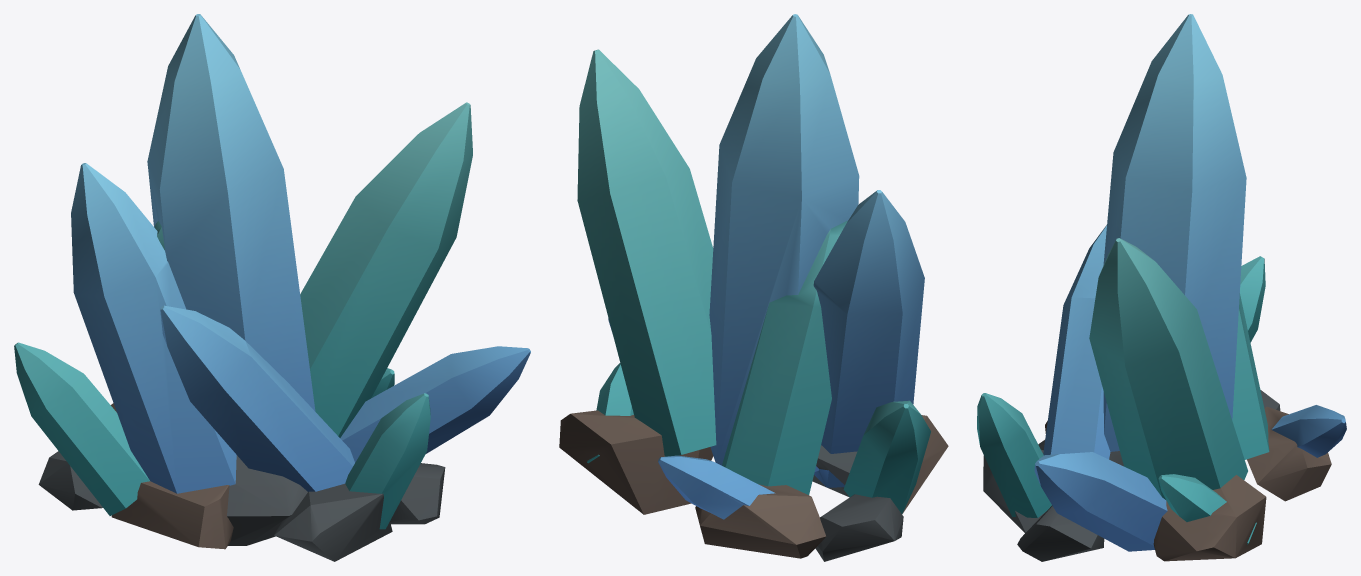
File: crystal_cluster_huge.glb
3 renders of one model, left to right at view 1: azimuth 30°, elevation 25°; view 2: azimuth 150°, elevation 25°; view 3: azimuth 270°, elevation 25°, orthographic. The views are drawn at different scales.
Parts seen in each view (by area): view 1: crystal_cluster_huge; view 2: crystal_cluster_huge; view 3: crystal_cluster_huge.
Part boxes in pixels (box(x1,y1,x2,y2)): crystal_cluster_huge: box(14, 14, 530, 561); crystal_cluster_huge: box(559, 14, 948, 561); crystal_cluster_huge: box(977, 14, 1346, 561).
Size of the model in its own units: 3.35 by 3.9 by 2.74.
1 material, 1 textured.
